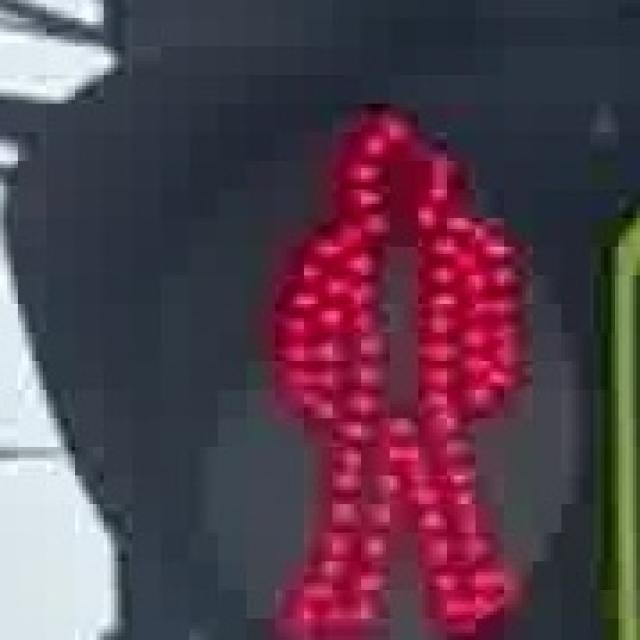red_light: (265, 79, 522, 636)
